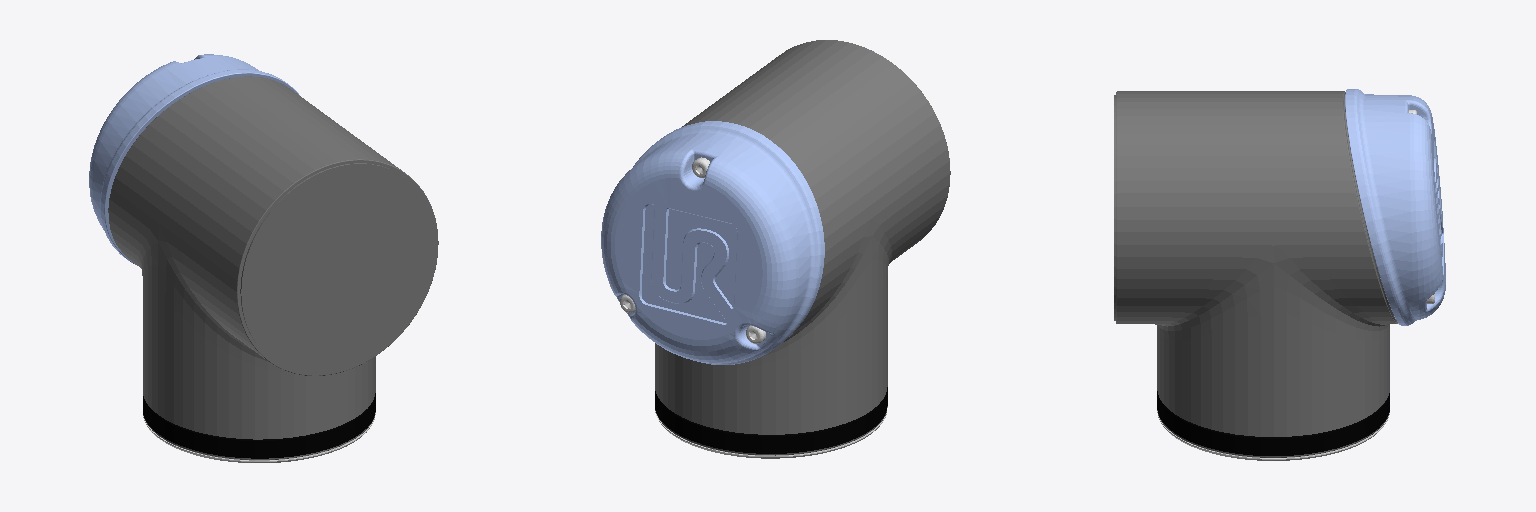
3 renders of one model, left to right at view 1: azimuth 30°, elevation 25°; view 2: azimuth 150°, elevation 25°; view 3: azimuth 270°, elevation 25°, orthographic.
Visible parts, largest first — view 1: wrist1; view 2: wrist1; view 3: wrist1.
Part boxes in pixels (x1,y1,x2,y2): wrist1: (89, 54, 438, 462); wrist1: (601, 40, 950, 458); wrist1: (1114, 89, 1445, 460).
Bounding box in the file's own units: 0.0644 × 0.0933 × 0.0897.
Materials: 1 (1 with a texture image).